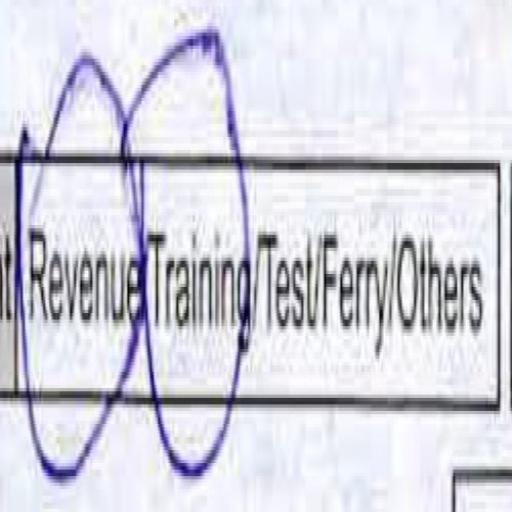check: (145, 67, 252, 508), (28, 100, 142, 476)
